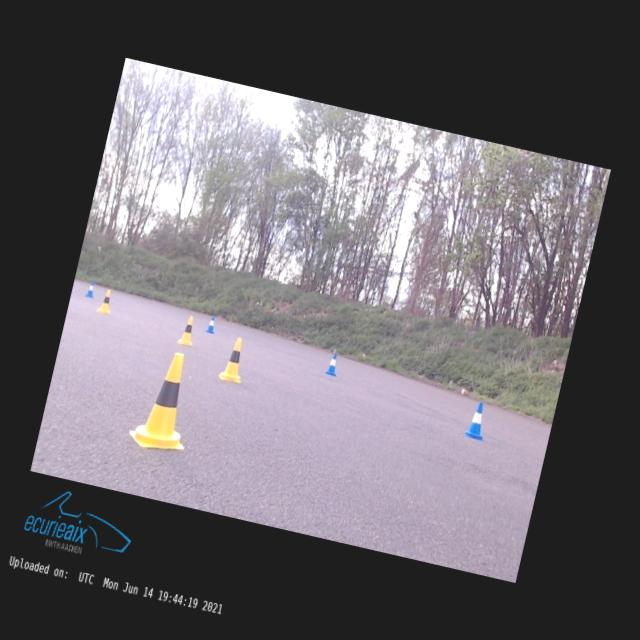blue_cone: (464, 400, 491, 440), (324, 351, 340, 376), (205, 314, 218, 334), (85, 278, 97, 298)
yellow_cone: (126, 346, 204, 455), (218, 335, 250, 383), (177, 314, 199, 346), (96, 288, 115, 314)
